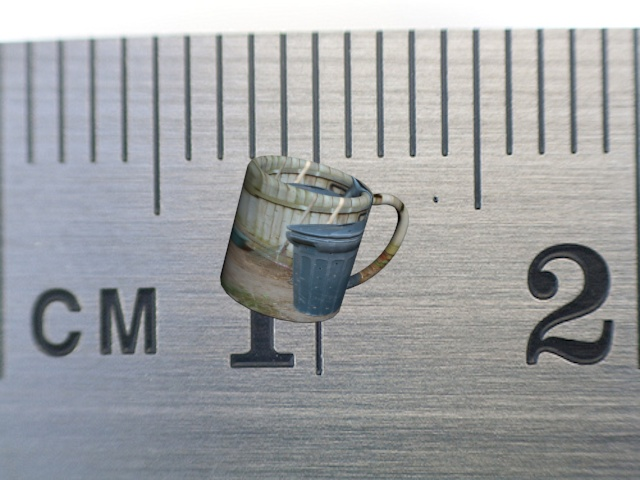mug: (209, 144, 416, 336)
